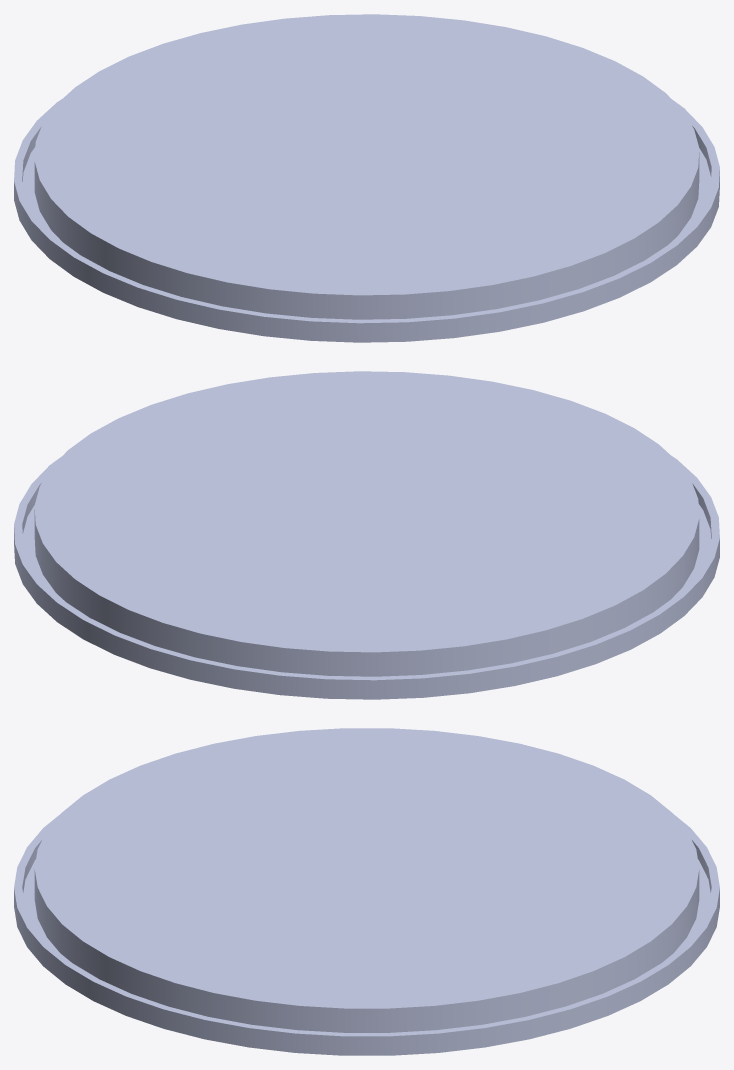
File: 80_fondo_sel.glb
3 views of the same model, one above another, from view 1: azimuth 30°, elevation 25°; view 2: azimuth 150°, elevation 25°; view 3: azimuth 270°, elevation 25° (orthographic).
Visible parts, largest first — view 1: FONDO SELLADO METAL 80; view 2: FONDO SELLADO METAL 80; view 3: FONDO SELLADO METAL 80.
Part boxes in pixels (<box>): FONDO SELLADO METAL 80: <box>14,14,719,342</box>; FONDO SELLADO METAL 80: <box>14,371,719,699</box>; FONDO SELLADO METAL 80: <box>14,728,719,1055</box>.
Size of the model in its own units: 0.0854 by 0.00516 by 0.0856.
